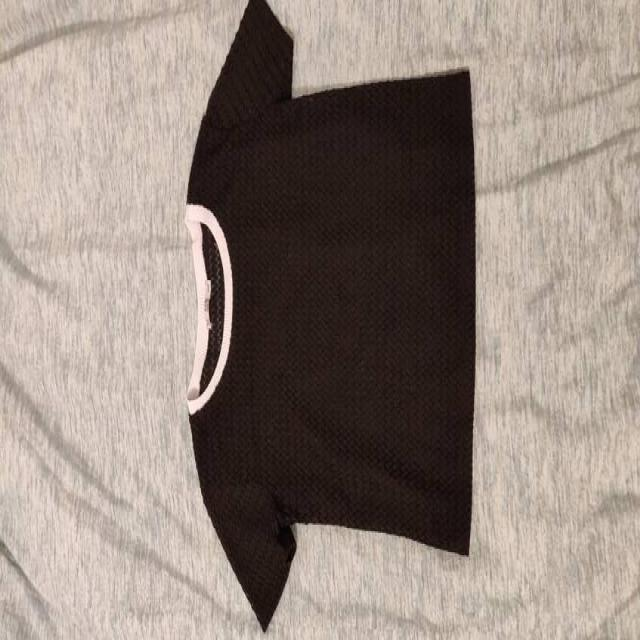Clothes -Biodegradable-: (184, 0, 474, 640)
